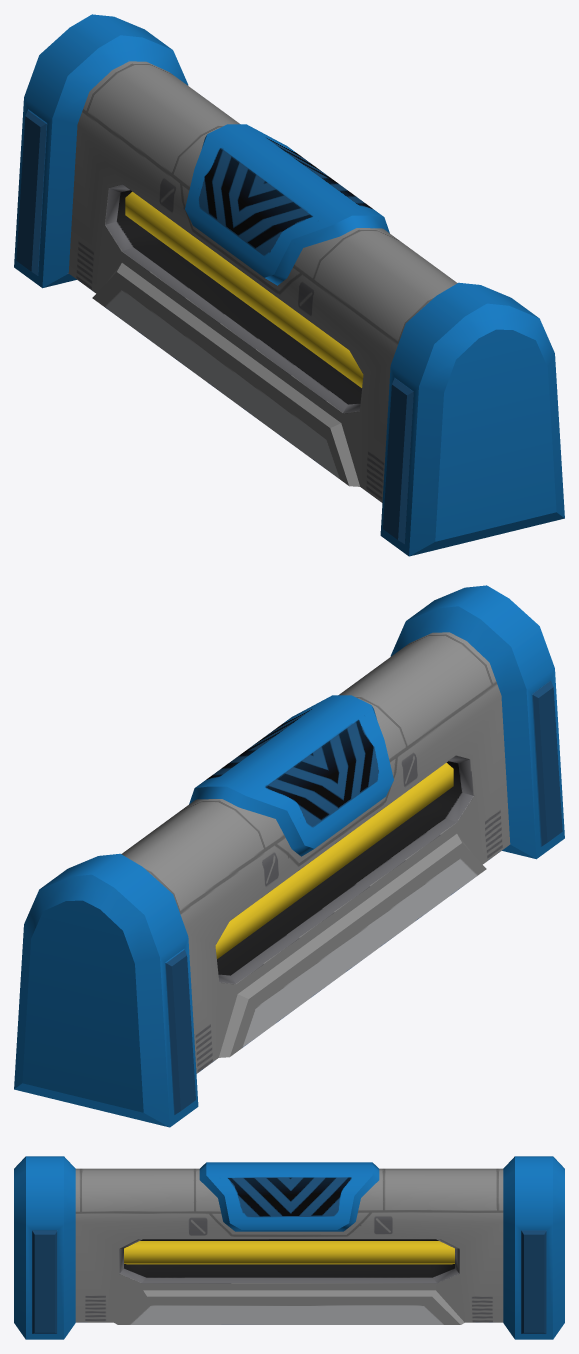
File: Fence.fbx
3 renders of one model, top to bottom at view 1: azimuth 30°, elevation 25°; view 2: azimuth 150°, elevation 25°; view 3: azimuth 270°, elevation 25°, orthographic. The views are drawn at different scales.
Parts seen in each view (by area): view 1: Fence_P1_Base, Fence_P1_Emission; view 2: Fence_P1_Base, Fence_P1_Emission; view 3: Fence_P1_Base, Fence_P1_Emission.
Boxes of the visible parts, x1,y1,x2,y2 form: Fence_P1_Base: (14, 14, 564, 556); Fence_P1_Emission: (125, 191, 361, 387); Fence_P1_Base: (14, 585, 564, 1127); Fence_P1_Emission: (217, 762, 453, 958); Fence_P1_Base: (14, 1156, 564, 1339); Fence_P1_Emission: (124, 1241, 454, 1264).
Size of the model in its own units: 20.22 by 27.47 by 87.85.
2 materials, 2 textured.
